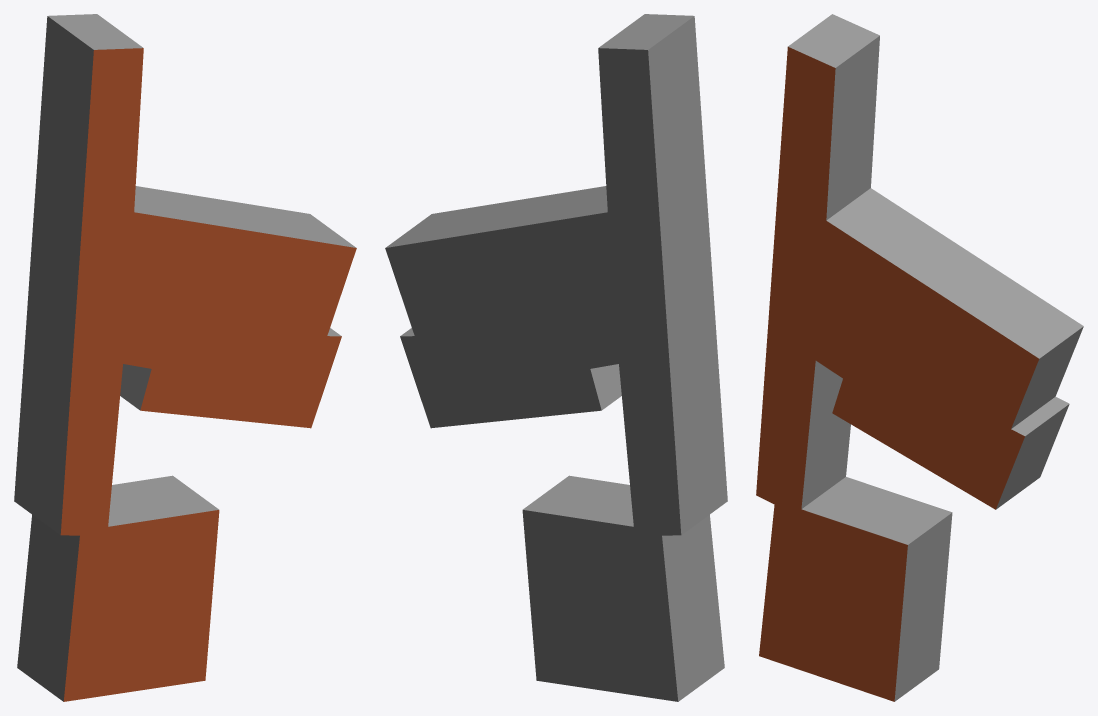
The model's file is construction_5089_assumed_A_Casa_h6m.obj.
3 renders of one model, left to right at view 1: azimuth 30°, elevation 25°; view 2: azimuth 150°, elevation 25°; view 3: azimuth 330°, elevation 25°, orthographic. The views are drawn at different scales.
Parts seen in each view (by area): view 1: construction_5089_assumed_A_Casa; view 2: construction_5089_assumed_A_Casa; view 3: construction_5089_assumed_A_Casa.
Boxes of the visible parts, left/top/right/bottom form: construction_5089_assumed_A_Casa: left=14, top=14, right=356, bottom=701; construction_5089_assumed_A_Casa: left=385, top=14, right=727, bottom=701; construction_5089_assumed_A_Casa: left=756, top=14, right=1083, bottom=701.
Size of the model in its own units: 22.03 by 46.76 by 6.
